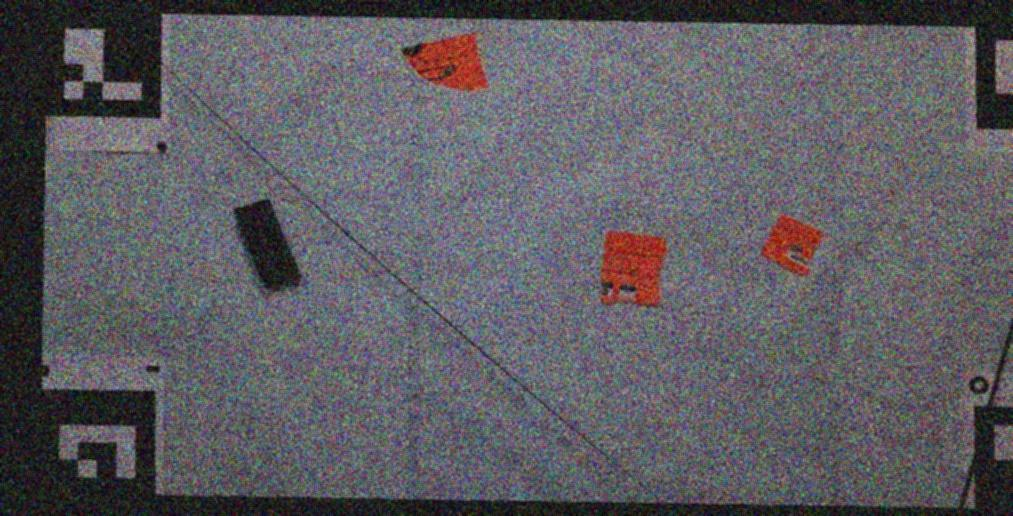obstacle: (234, 197, 304, 290), (402, 31, 488, 93), (602, 228, 663, 306), (761, 214, 823, 276)
